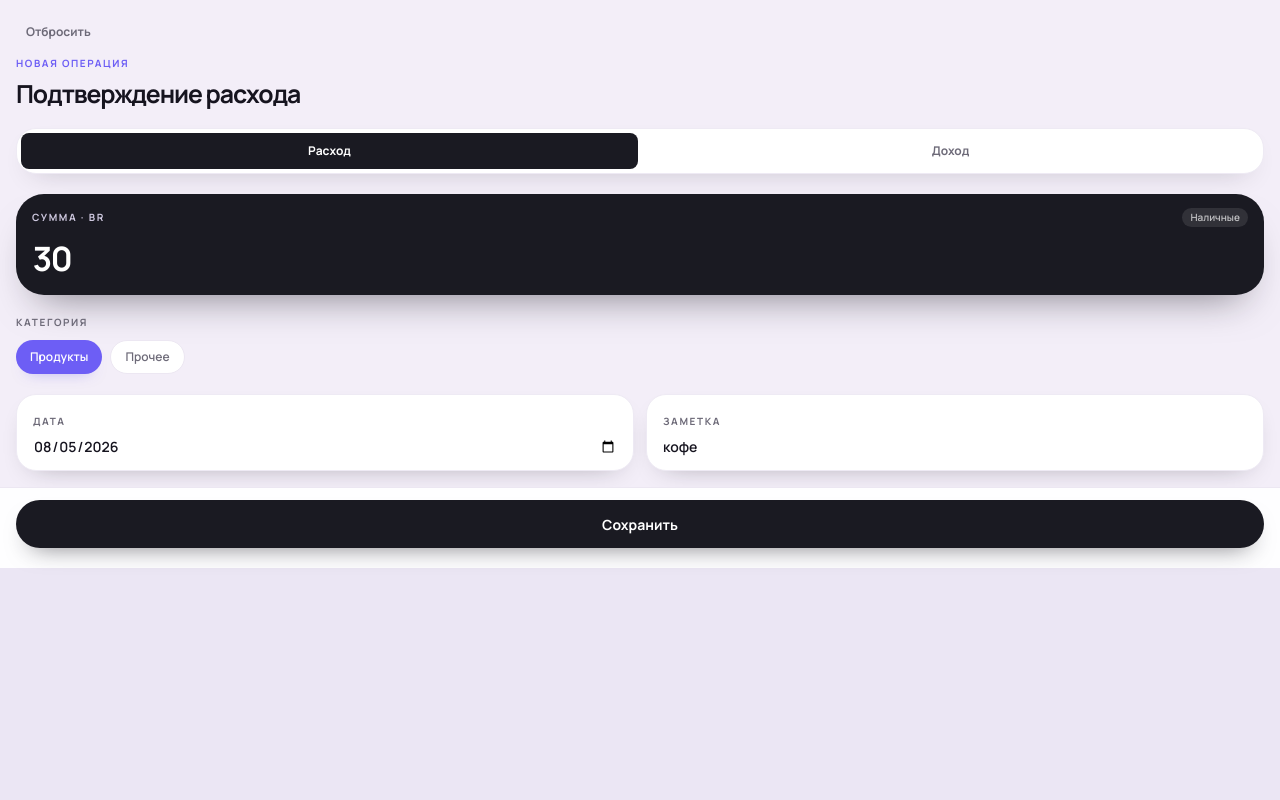
Test: ConfirmDraft › voice: shows kind switch; Expense→Income drops Category
This screenshot has width=1280, height=800.
Check: the element named "Категория" is shown, box [16,340,185,374]
Step 1. Click the button "Доход" → point(950, 151), box [642,133,1259,169]
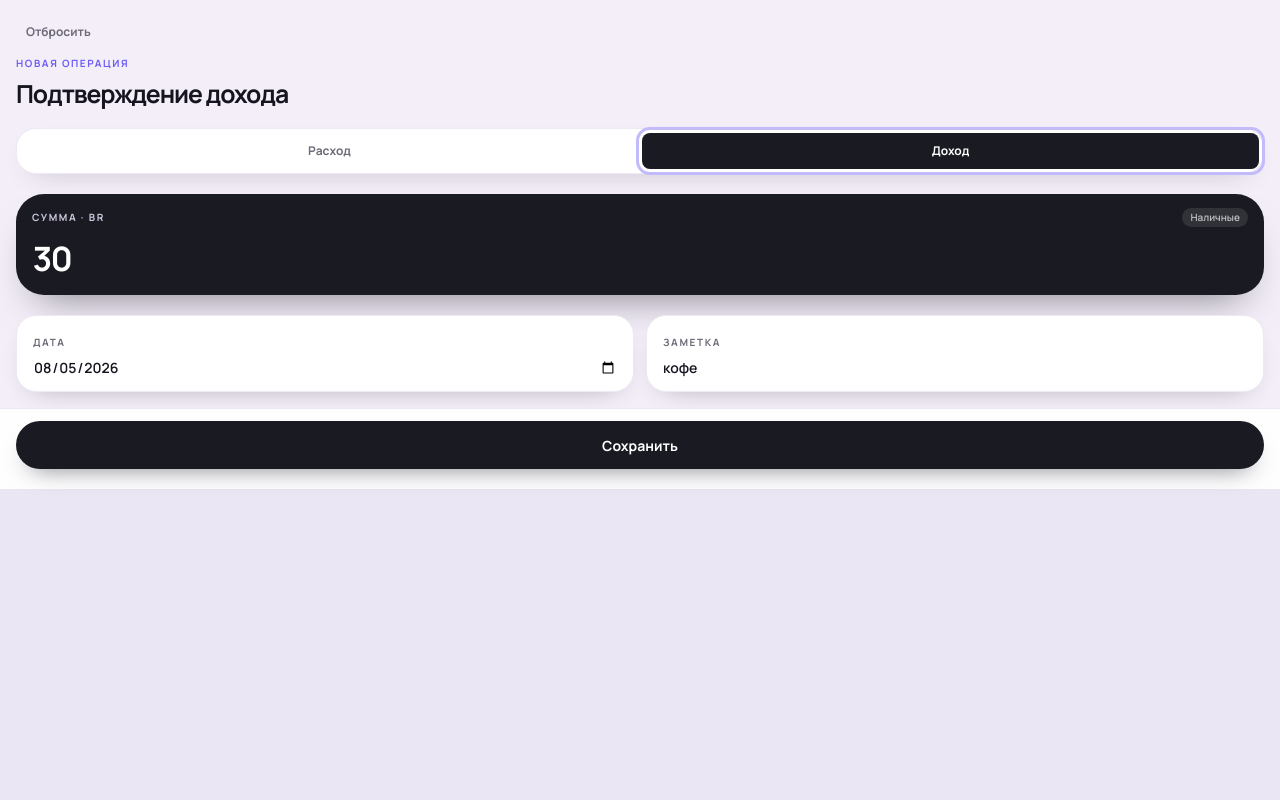
Check: the field named "Сумма" holds "30", box [32,235,1248,281]
Check: the heading "Подтверждение дохода" is shown, box [16,77,288,110]
Check: the text labelled "Категория" is gone
